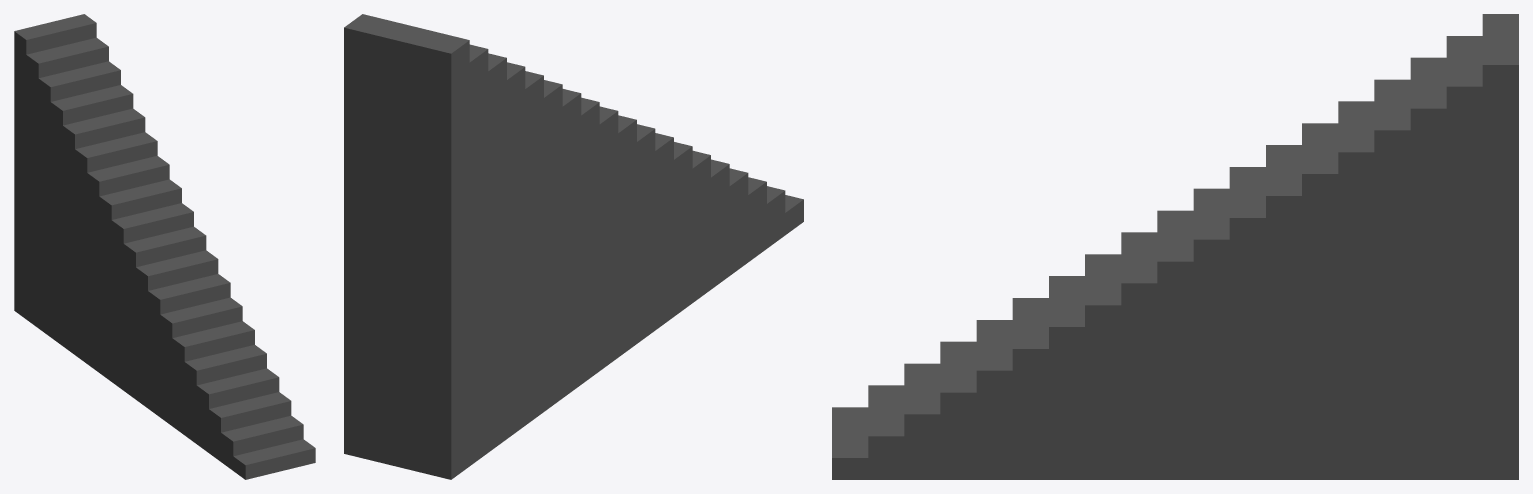
The model's file is Stairs.fbx.
3 renders of one model, left to right at view 1: azimuth 30°, elevation 25°; view 2: azimuth 150°, elevation 25°; view 3: azimuth 270°, elevation 25°, orthographic. The views are drawn at different scales.
Parts seen in each view (by area): view 1: Stairs; view 2: Stairs; view 3: Stairs.
Boxes of the visible parts, <box> form: Stairs: <box>14,14,315,479</box>; Stairs: <box>344,14,803,479</box>; Stairs: <box>832,14,1518,479</box>.
Bounding box in the file's own units: 100 × 380 × 570.
